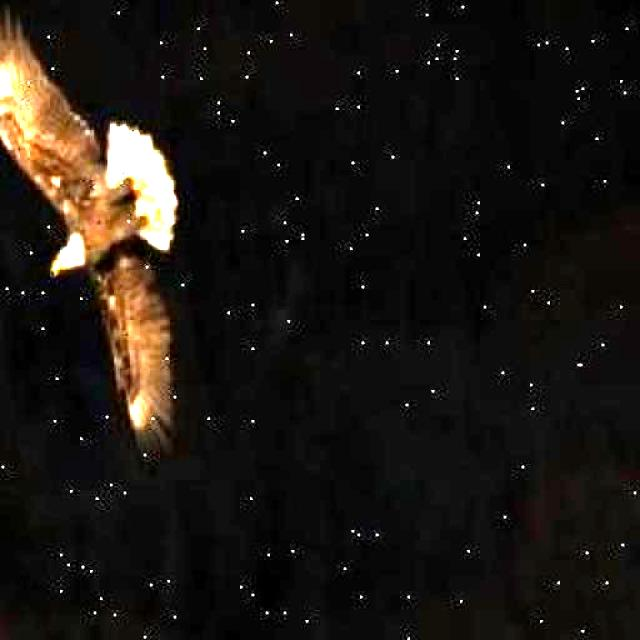airplane: (0, 0, 209, 498)
